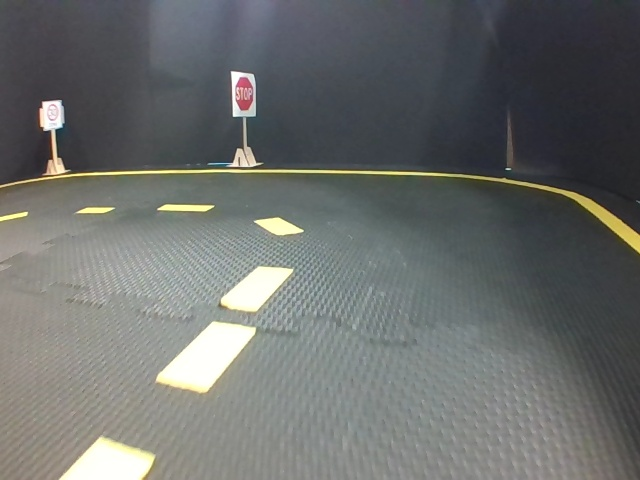30: (44, 100, 61, 127)
stop: (231, 70, 256, 117)
